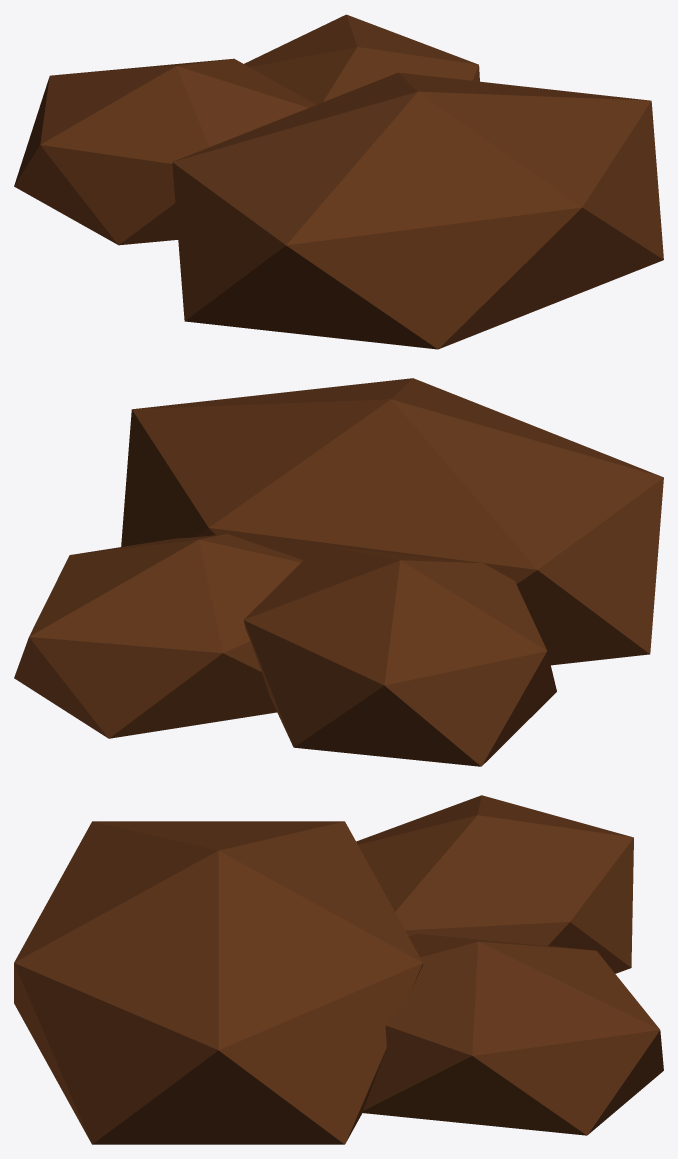
Rendered from mud_1.fbx.
3 views of the same model, one above another, from view 1: azimuth 30°, elevation 25°; view 2: azimuth 150°, elevation 25°; view 3: azimuth 270°, elevation 25° (orthographic). The views are drawn at different scales.
Visible parts, largest first — view 1: mud_1; view 2: mud_1; view 3: mud_1.
Boxes of the visible parts, box(x1,y1,x2,y2) form: mud_1: box(14, 14, 663, 349); mud_1: box(14, 378, 663, 766); mud_1: box(14, 795, 663, 1144).
Size of the model in its own units: 141 by 65.43 by 145.
